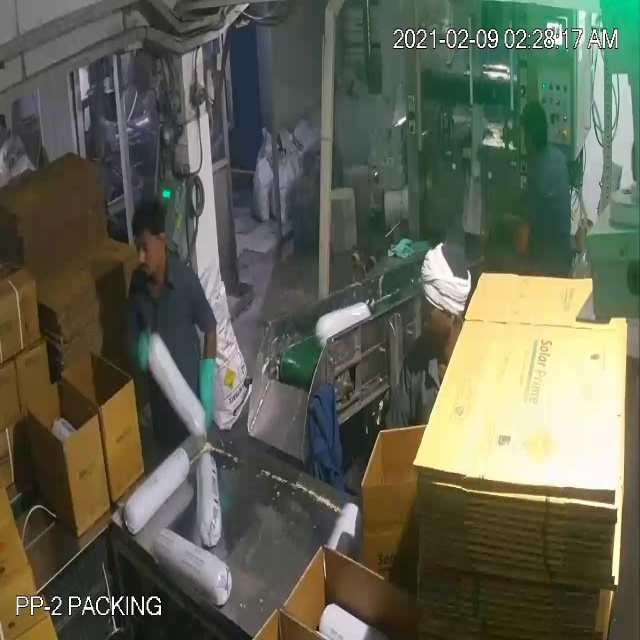Guantes: (188, 344, 222, 439), (126, 321, 162, 372)
